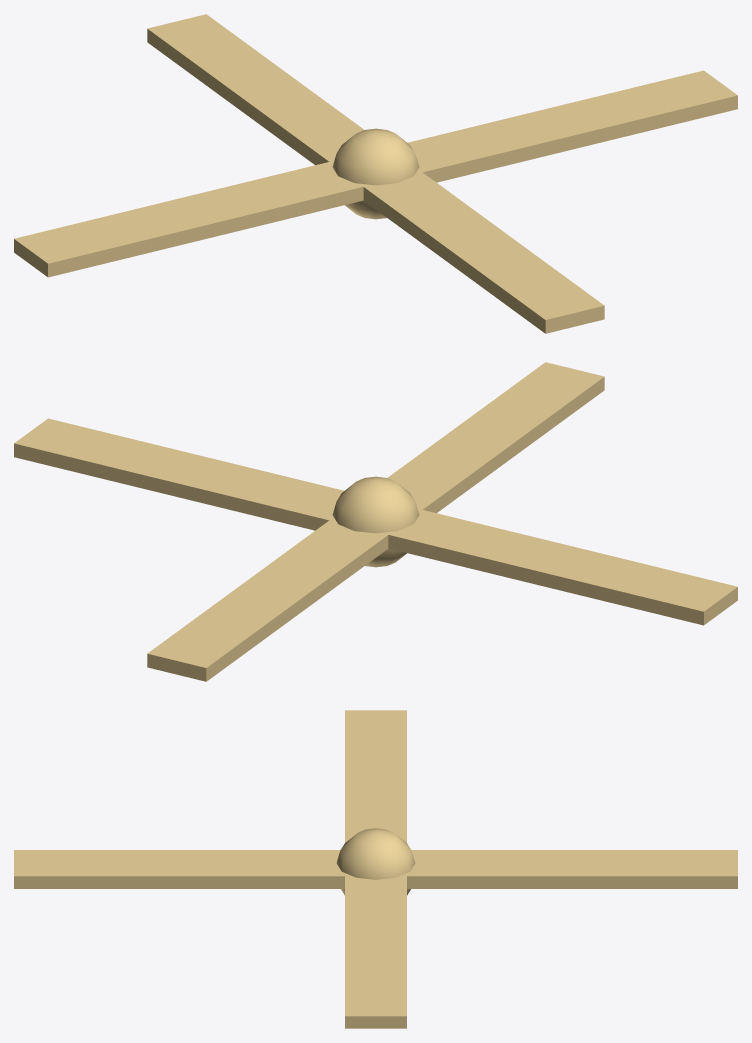
File: fan.glb
3 views of the same model, one above another, from view 1: azimuth 30°, elevation 25°; view 2: azimuth 150°, elevation 25°; view 3: azimuth 270°, elevation 25° (orthographic). The views are drawn at different scales.
Visible parts, largest first — view 1: blade2, blade0, blade3, blade1, hub; view 2: blade2, blade0, blade1, blade3, hub; view 3: blade1, blade3, blade0, blade2, hub.
Boxes of the visible parts, box(x1,y1,x2,y2) form: blade2: box(14, 161, 369, 277); blade0: box(407, 70, 737, 182); blade3: box(363, 172, 604, 333); blade1: box(147, 14, 363, 165); hub: box(332, 128, 419, 219); blade2: box(382, 509, 737, 625); blade0: box(14, 418, 344, 530); blade1: box(147, 520, 388, 681); blade3: box(388, 362, 604, 513); hub: box(332, 476, 419, 567); blade1: box(407, 850, 737, 888); blade3: box(14, 850, 344, 888); blade0: box(345, 873, 406, 1028); blade2: box(345, 710, 406, 842); hub: box(336, 828, 415, 895).
Size of the model in its own units: 2.1 by 0.24 by 2.1.
